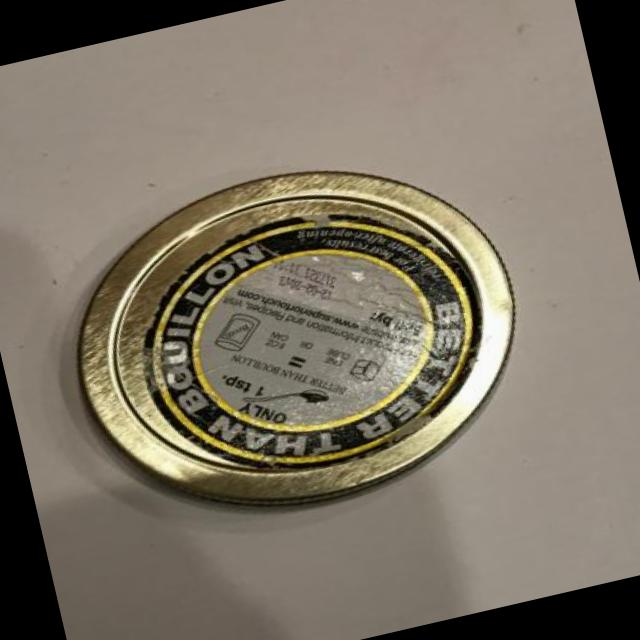metal: (80, 172, 513, 504)
